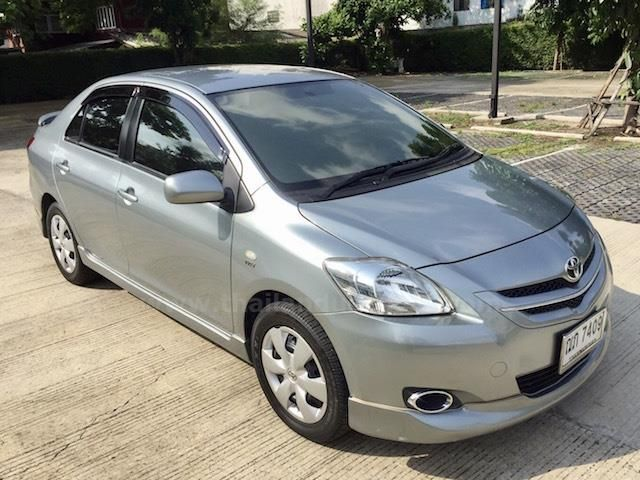sedan: (26, 64, 615, 445)
